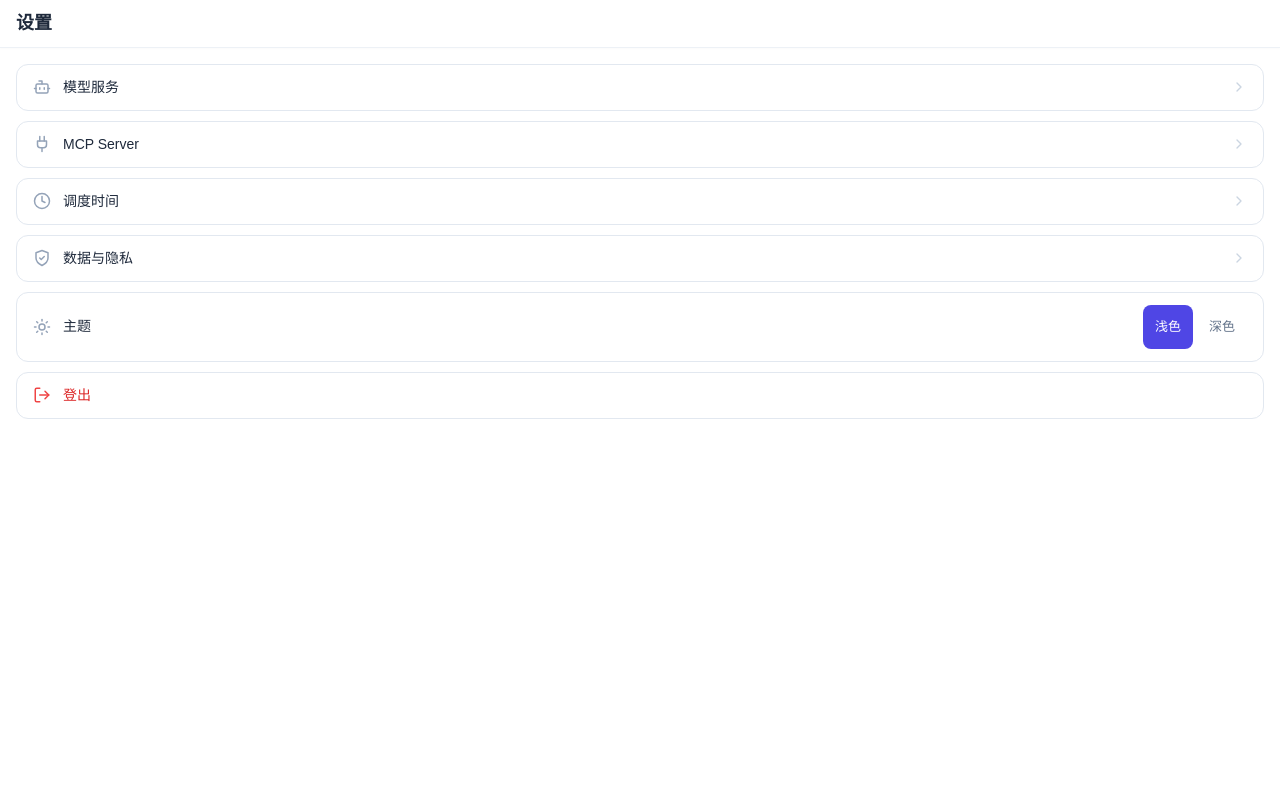
MobileSettingsView 登出链路（Story 16.4 浏览器分支） › 浏览器分支 › logout 429（限流）：展示限流文案且不本地登出（不发射 auth:unauthorized）
This screenshot has width=1280, height=800.
Click the button with test id "settings-logout" at (42, 395), box [16,372,1264,418]
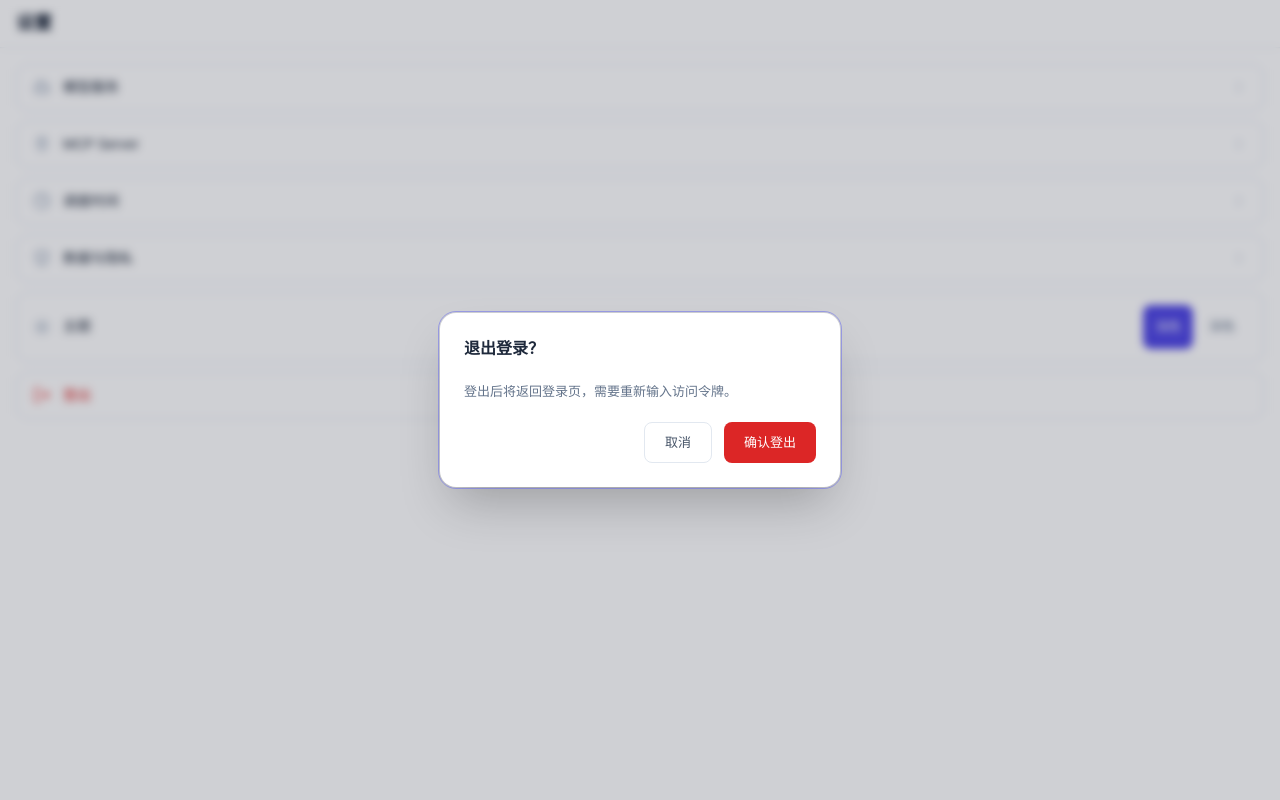
Click the button "确认登出" at (770, 443), box [724,422,816,463]
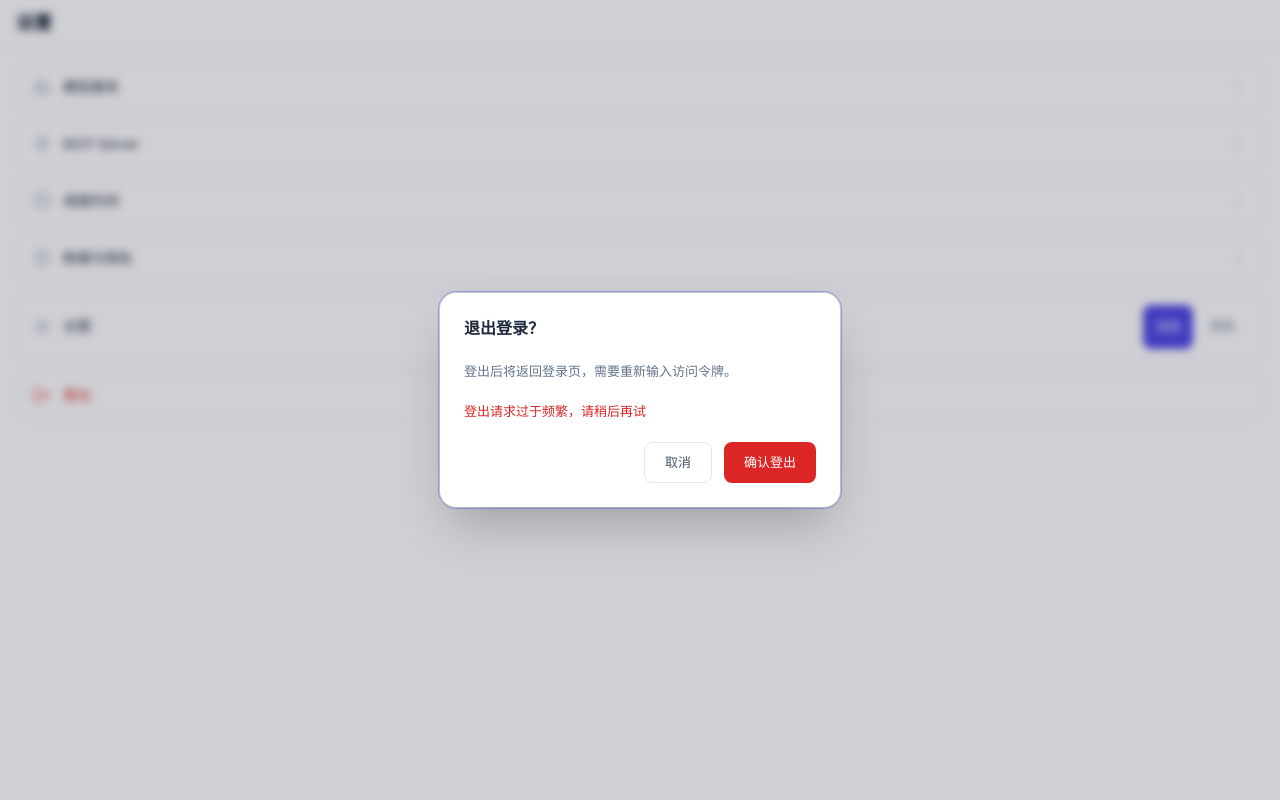
Expected: the message reads "登出请求过于频繁，请稍后再试", [464,404,646,419]
